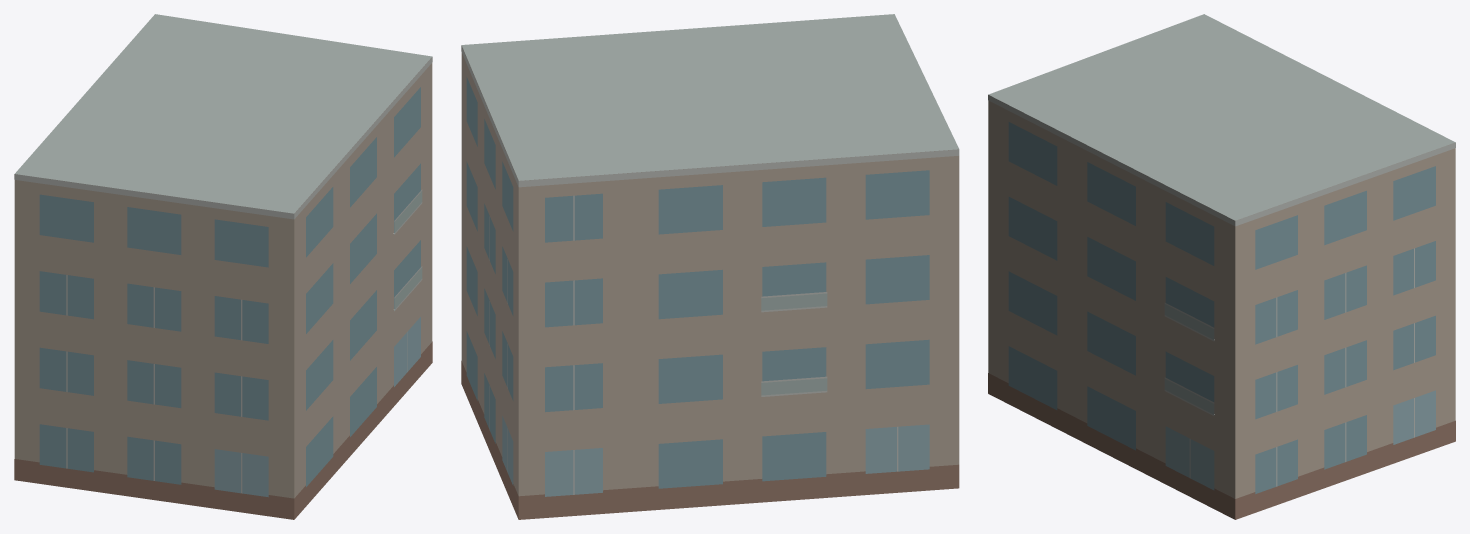
The model's file is survey-upis-32834873.glb.
3 renders of one model, left to right at view 1: azimuth 30°, elevation 25°; view 2: azimuth 150°, elevation 25°; view 3: azimuth 270°, elevation 25°, orthographic. The views are drawn at different scales.
Visible parts, largest first — view 1: survey-upis-32834873.tmp; view 2: survey-upis-32834873.tmp; view 3: survey-upis-32834873.tmp.
Boxes of the visible parts, x1,y1,x2,y2 form: survey-upis-32834873.tmp: (14,14,432,519); survey-upis-32834873.tmp: (461,14,959,519); survey-upis-32834873.tmp: (988,14,1455,519).
Size of the model in its own units: 18.99 by 12.8 by 18.14.
